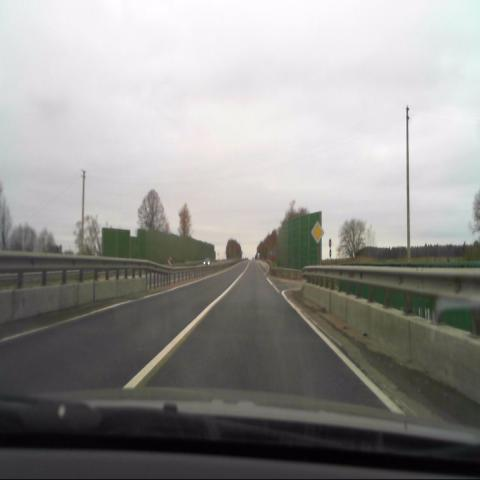2_1: (310, 221, 324, 244)
